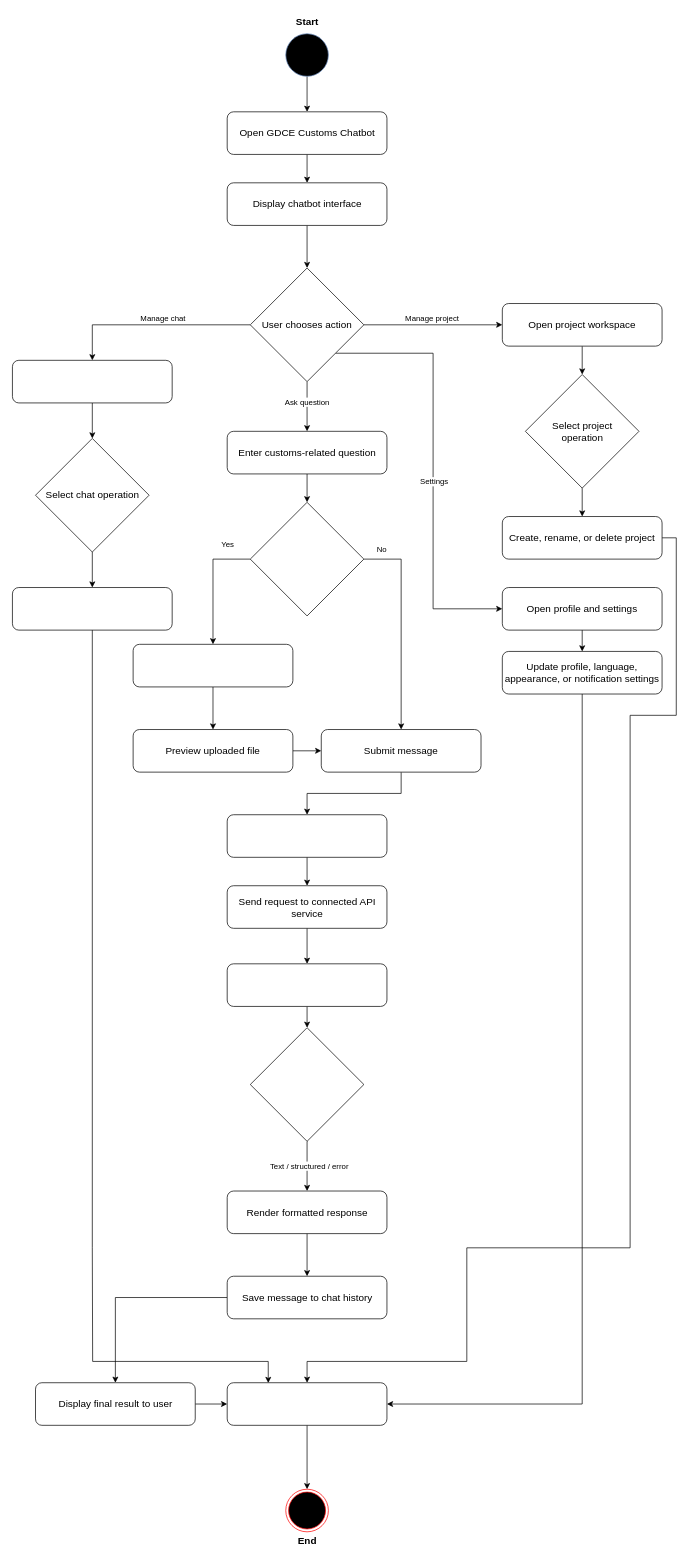
Image size: 694x1562. Some labels were removed from this diagram. Here are the shapes that lost their labels. From the top down, the box of each, then its label:
(12, 360, 172, 403): Open chat history
(250, 502, 364, 616): Attach document
(12, 587, 172, 630): Create, rename, delete, search, or share chat
(132, 644, 293, 687): Upload document or file
(226, 814, 387, 857): Show loading or typing state
(226, 963, 387, 1006): Receive service response
(250, 1027, 364, 1141): Response type
(226, 1382, 387, 1425): Continue using system
